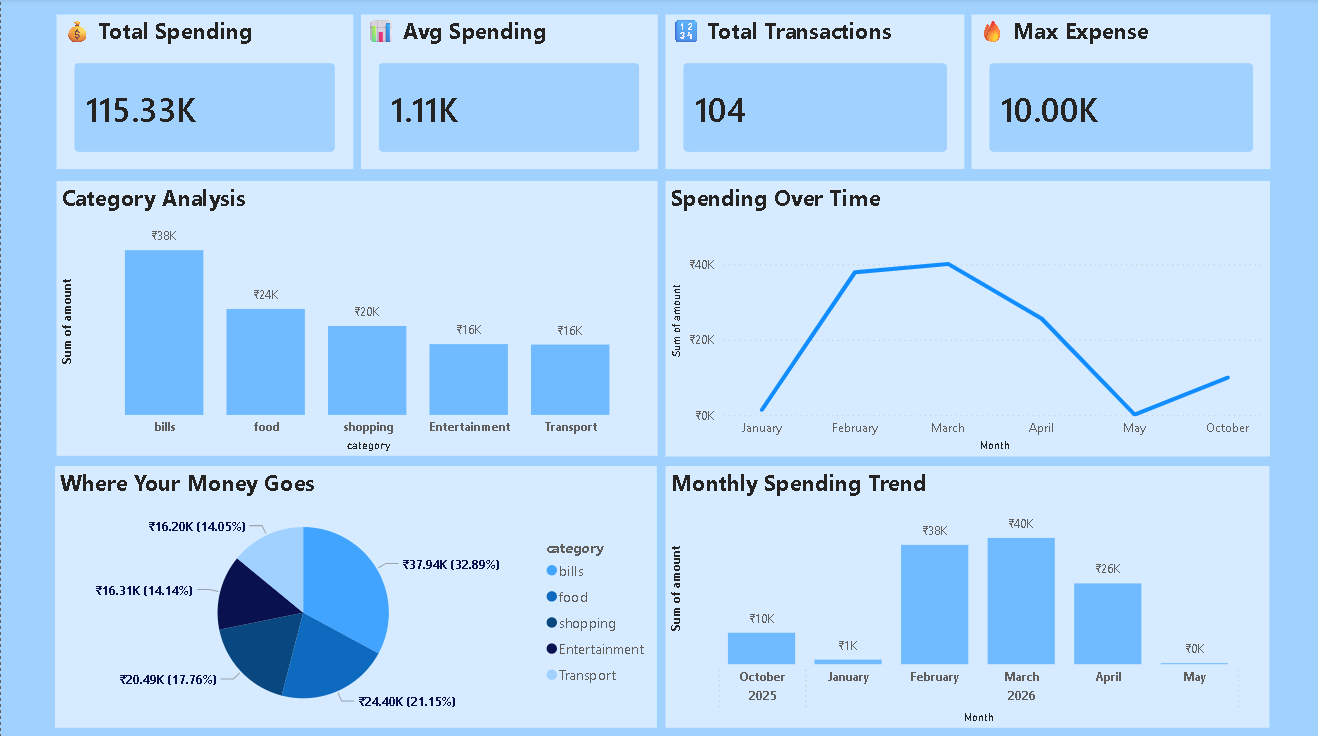

What the dashboard file says about the page in this screenshot:
{"tool":"powerbi","page":{"name":"Page 1","canvas":[1280,720],"ordinal":0},"visuals":[{"type":"cardVisual","title":"📊 Avg Spending","fields":{"Data":["expenses_powerbi.Avg Spending"]},"box":[348.7,15.8,287.9,150],"z":0},{"type":"cardVisual","title":"💰 Total Spending","fields":{"Data":["expenses_powerbi.Total Spending"]},"box":[53.3,15.8,287.9,150],"z":1000},{"type":"columnChart","title":"Category Analysis","fields":{"Category":["expenses_powerbi.category"],"Y":["Sum(expenses_powerbi.amount)"]},"box":[53.3,176.9,583.3,266.7],"z":2000},{"type":"pieChart","title":"Where Your Money Goes","fields":{"Category":["expenses_powerbi.category"],"Y":["Sum(expenses_powerbi.amount)"]},"box":[53,454.6,584,254],"z":3000},{"type":"lineChart","title":"Spending Over Time","fields":{"Category":["expenses_powerbi.date.Variation.Date Hierarchy.Month"],"Y":["Sum(expenses_powerbi.amount)"]},"box":[644.7,177,586.5,267],"z":4000},{"type":"cardVisual","title":"🔢 Total Transactions","fields":{"Data":["expenses_powerbi.Total Transactions"]},"box":[644.5,15.9,290,150],"z":5000},{"type":"cardVisual","title":"🔥 Max Expense","fields":{"Data":["expenses_powerbi.Max Expense"]},"box":[941.2,16,290,150],"z":6000},{"type":"clusteredColumnChart","title":"Monthly Spending Trend","fields":{"Y":["Sum(expenses_powerbi.amount)"],"Category":["expenses_powerbi.month.Variation.Date Hierarchy.Year","expenses_powerbi.month.Variation.Date Hierarchy.Month"]},"box":[645.2,454.5,586,254],"z":7000}]}

Visuals, with their boxes in screenshot pixels (x1, y1, x2, y2), scaled from the page's 1280x720 canvas onto the 1318x736 screenshot:
"📊 Avg Spending" cardVisual: x1=359 y1=16 x2=655 y2=169
"💰 Total Spending" cardVisual: x1=55 y1=16 x2=351 y2=169
"Category Analysis" columnChart: x1=55 y1=181 x2=655 y2=453
"Where Your Money Goes" pieChart: x1=55 y1=465 x2=656 y2=724
"Spending Over Time" lineChart: x1=664 y1=181 x2=1268 y2=454
"🔢 Total Transactions" cardVisual: x1=664 y1=16 x2=962 y2=170
"🔥 Max Expense" cardVisual: x1=969 y1=16 x2=1268 y2=170
"Monthly Spending Trend" clusteredColumnChart: x1=664 y1=465 x2=1268 y2=724
